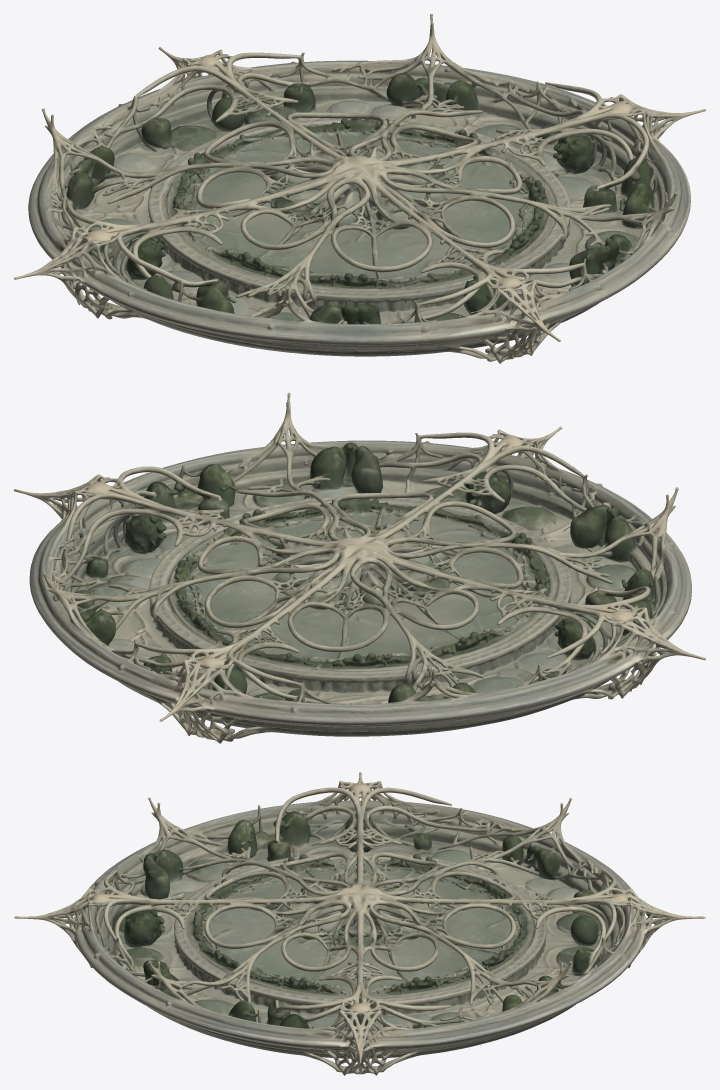
The model's file is dome-map.glb.
The picture shows the model from 3 angles, top to bottom: view 1: azimuth 30°, elevation 25°; view 2: azimuth 150°, elevation 25°; view 3: azimuth 270°, elevation 25°; orthographic projection. The views are drawn at different scales.
Parts seen in each view (by area): view 1: tripo_node_70386268-d15b-4129-baef-de83ac37dad9; view 2: tripo_node_70386268-d15b-4129-baef-de83ac37dad9; view 3: tripo_node_70386268-d15b-4129-baef-de83ac37dad9.
Boxes of the visible parts, bbox=[...] form: tripo_node_70386268-d15b-4129-baef-de83ac37dad9: bbox=[14, 14, 705, 363]; tripo_node_70386268-d15b-4129-baef-de83ac37dad9: bbox=[14, 392, 705, 743]; tripo_node_70386268-d15b-4129-baef-de83ac37dad9: bbox=[14, 772, 705, 1075].
Bounding box in the file's own units: 0.9771 × 0.1479 × 0.9844.
1 material, 1 textured.
